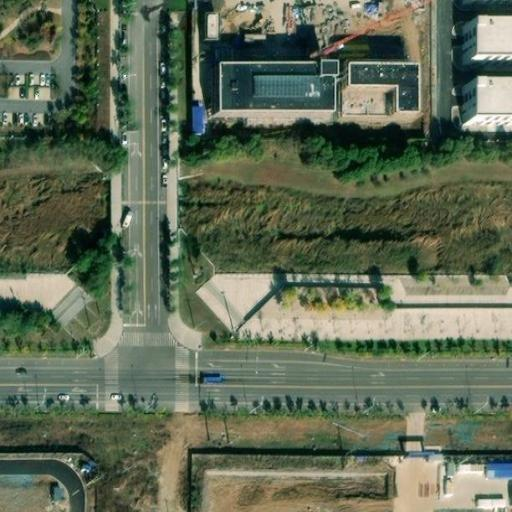building: (218, 60, 337, 107), (0, 451, 87, 512), (345, 64, 421, 113), (46, 280, 92, 326), (462, 85, 512, 123), (0, 36, 55, 70), (461, 25, 512, 61), (484, 460, 512, 478), (456, 459, 485, 474), (205, 14, 217, 40), (192, 107, 204, 133)
